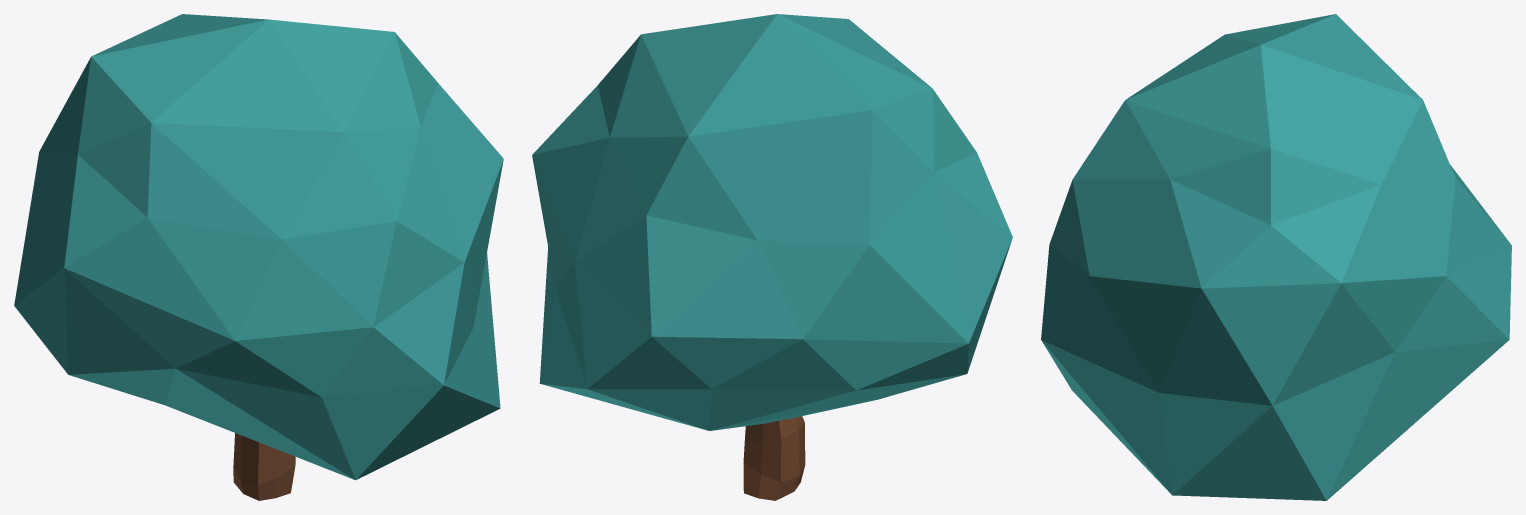
The model's file is Tree_61_Blue.fbx.
3 renders of one model, left to right at view 1: azimuth 30°, elevation 25°; view 2: azimuth 150°, elevation 25°; view 3: azimuth 270°, elevation 25°, orthographic. The views are drawn at different scales.
Parts seen in each view (by area): view 1: Tree_61_Blue_Part_1, Tree_61_Blue_Part_2; view 2: Tree_61_Blue_Part_1, Tree_61_Blue_Part_2; view 3: Tree_61_Blue_Part_1.
Boxes of the visible parts, box(x1,y1,x2,y2) form: Tree_61_Blue_Part_1: box(14, 14, 503, 480); Tree_61_Blue_Part_2: box(233, 433, 295, 500); Tree_61_Blue_Part_1: box(532, 14, 1012, 430); Tree_61_Blue_Part_2: box(743, 416, 805, 500); Tree_61_Blue_Part_1: box(1041, 14, 1511, 500).
Bounding box in the file's own units: 760 × 766 × 750.
